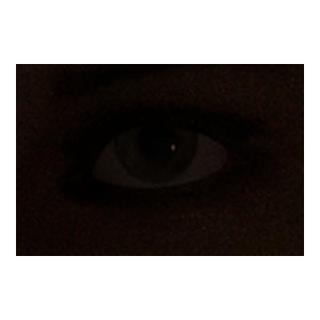pupil: (140, 124, 172, 156)
